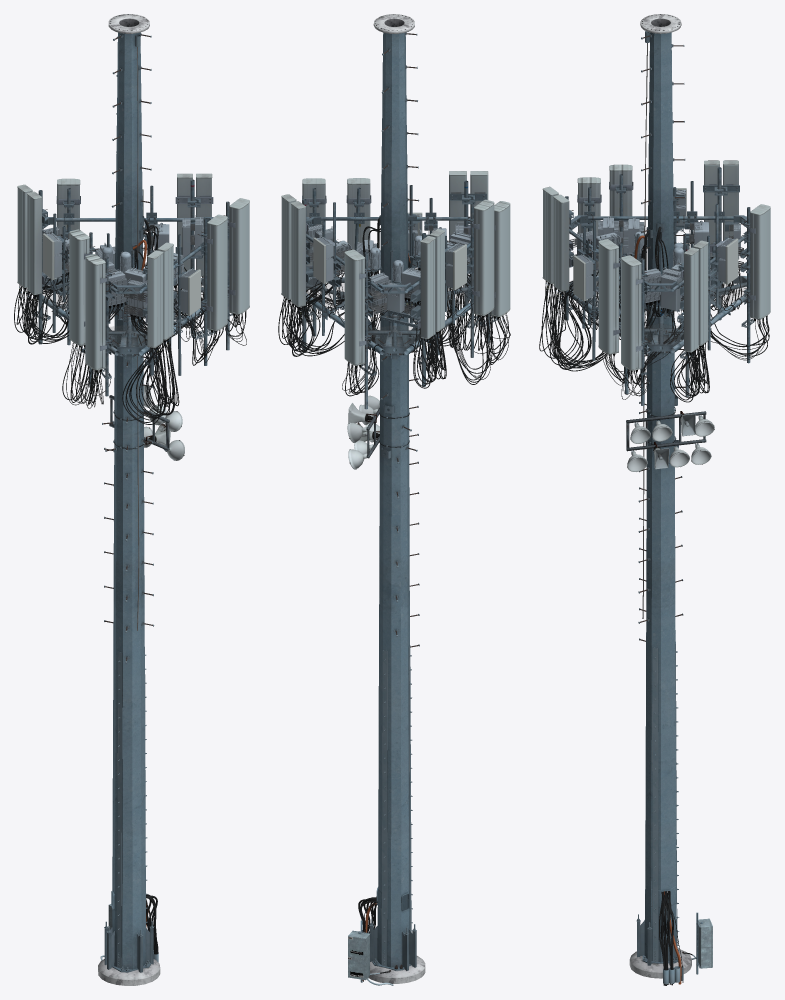
The model's file is SITX024649.glb.
The picture shows the model from 3 angles, left to right: view 1: azimuth 30°, elevation 25°; view 2: azimuth 150°, elevation 25°; view 3: azimuth 270°, elevation 25°; orthographic projection.
Visible parts, largest first — view 1: polySurface9, polySurface8, Skrew_02, Cellular_Antenna_11, Cellular_Antenna_02, Cellular_Antenna_01, Cellular_Antenna_10, InnerPart_03, InnerPart_04, Cellular_Antenna_09, Cellular_Antenna_07, Cellular_Antenna_06 (+7 smaller); view 2: polySurface9, Skrew_02, polySurface8, Cellular_Antenna_10, Cellular_Antenna_05, InnerPart_04, Cellular_Antenna_11, InnerPart_03, Cellular_Antenna_06, polySurface9.001, Cellular_Antenna_04, Cellular_Antenna_03 (+6 smaller); view 3: polySurface9, Skrew_02, polySurface8, Cellular_Antenna_01, Cellular_Antenna_05, Cellular_Antenna_02, InnerPart_04, InnerPart_03, Cellular_Antenna_08, Cellular_Antenna_03, polySurface9.001, Cellular_Antenna_04 (+8 smaller).
Boxes of the visible parts, <box> form: polySurface9: <box>30,14,229,985</box>; polySurface8: <box>19,33,249,971</box>; Skrew_02: <box>17,34,238,967</box>; Cellular_Antenna_11: <box>85,254,105,369</box>; Cellular_Antenna_02: <box>229,198,249,313</box>; Cellular_Antenna_01: <box>207,214,227,329</box>; Cellular_Antenna_10: <box>69,229,89,344</box>; InnerPart_03: <box>42,34,229,354</box>; InnerPart_04: <box>42,198,229,352</box>; Cellular_Antenna_09: <box>147,250,163,347</box>; Cellular_Antenna_07: <box>27,191,41,294</box>; Cellular_Antenna_06: <box>17,184,32,287</box>; polySurface9: <box>302,14,489,983</box>; Skrew_02: <box>281,32,506,968</box>; polySurface8: <box>283,65,510,969</box>; Cellular_Antenna_10: <box>473,199,494,314</box>; Cellular_Antenna_05: <box>344,249,365,364</box>; InnerPart_04: <box>306,192,485,347</box>; Cellular_Antenna_11: <box>490,201,510,315</box>; InnerPart_03: <box>306,195,484,350</box>; Cellular_Antenna_06: <box>420,236,435,338</box>; polySurface9.001: <box>306,277,470,347</box>; Cellular_Antenna_04: <box>291,201,305,306</box>; Cellular_Antenna_03: <box>281,194,296,299</box>; polySurface9: <box>569,14,747,984</box>; Skrew_02: <box>547,44,763,961</box>; polySurface8: <box>542,33,770,980</box>; Cellular_Antenna_01: <box>598,239,618,353</box>; Cellular_Antenna_05: <box>750,204,770,318</box>; Cellular_Antenna_02: <box>621,255,641,369</box>; InnerPart_04: <box>569,184,750,353</box>; InnerPart_03: <box>569,31,750,355</box>; Cellular_Antenna_08: <box>553,194,569,290</box>; Cellular_Antenna_03: <box>684,247,698,351</box>; polySurface9.001: <box>569,276,746,345</box>; Cellular_Antenna_04: <box>693,240,708,344</box>.
Size of the model in its own units: 3.67 by 18.04 by 3.98.
7 materials, 7 textured.
